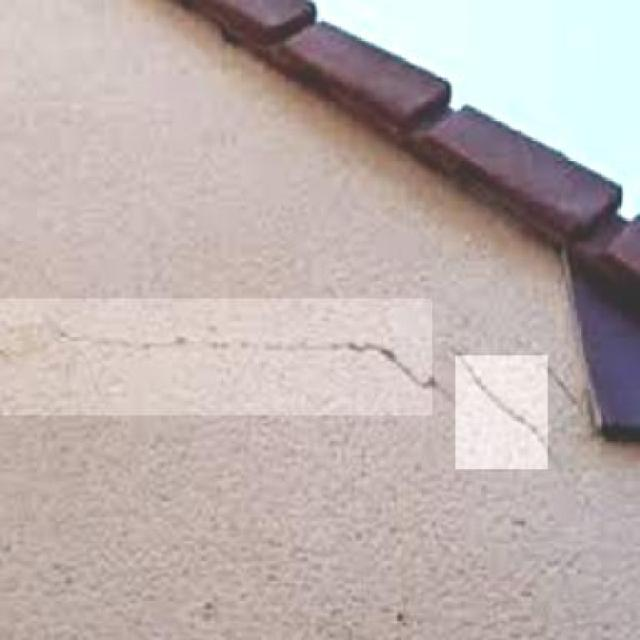Crack: (0, 300, 428, 420), (456, 350, 554, 470)
